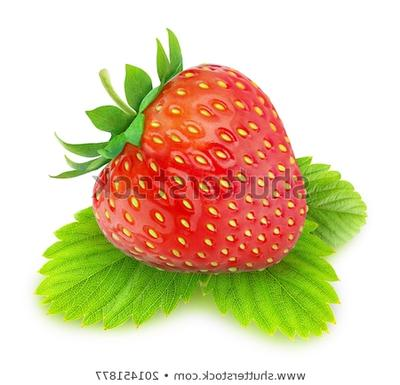strawberry: (0, 0, 400, 385)
